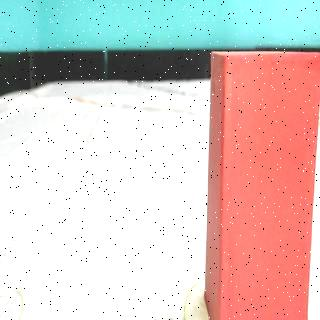redbox: (204, 50, 320, 320)
